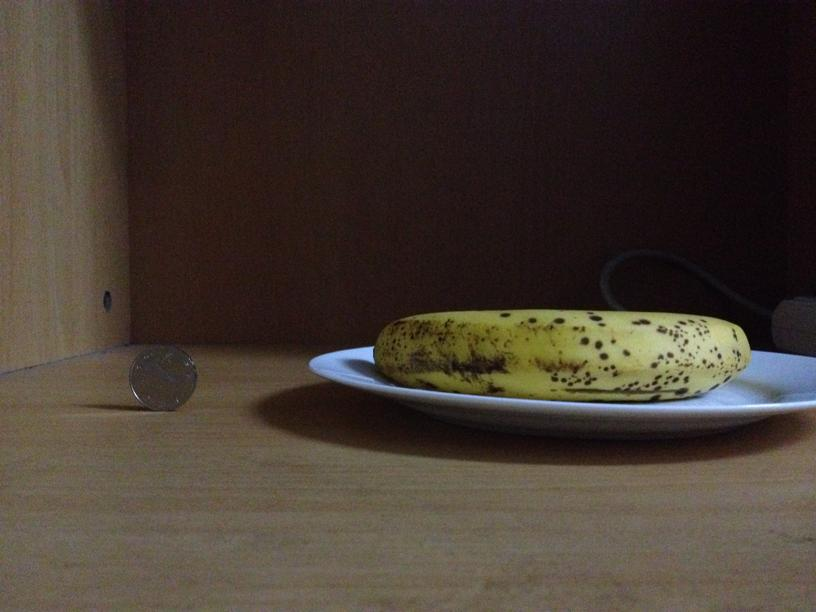banana: (372, 303, 750, 404)
coin: (131, 348, 200, 412)
